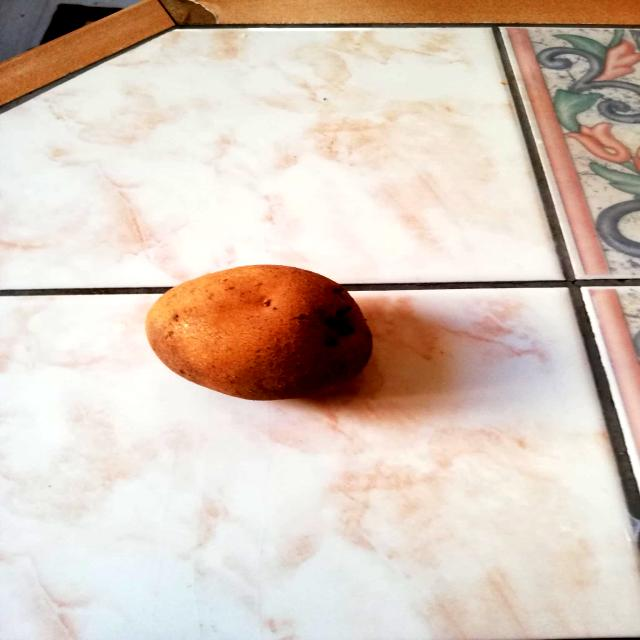potato: (134, 260, 380, 404)
